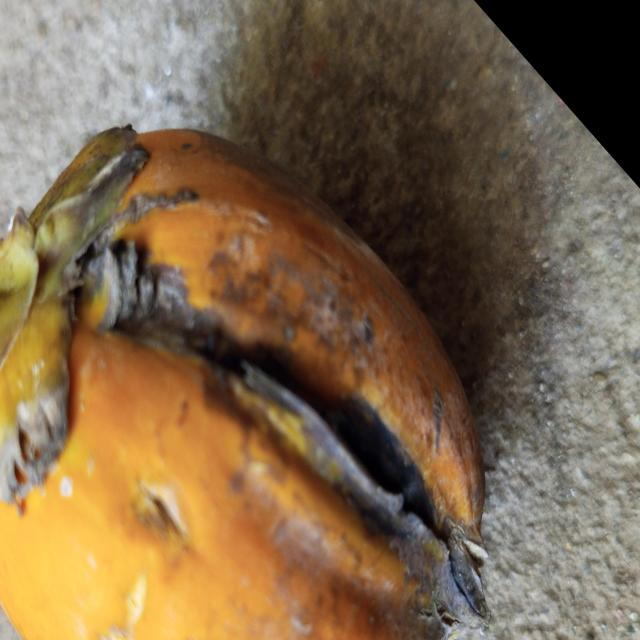damaged: (0, 126, 487, 640)
